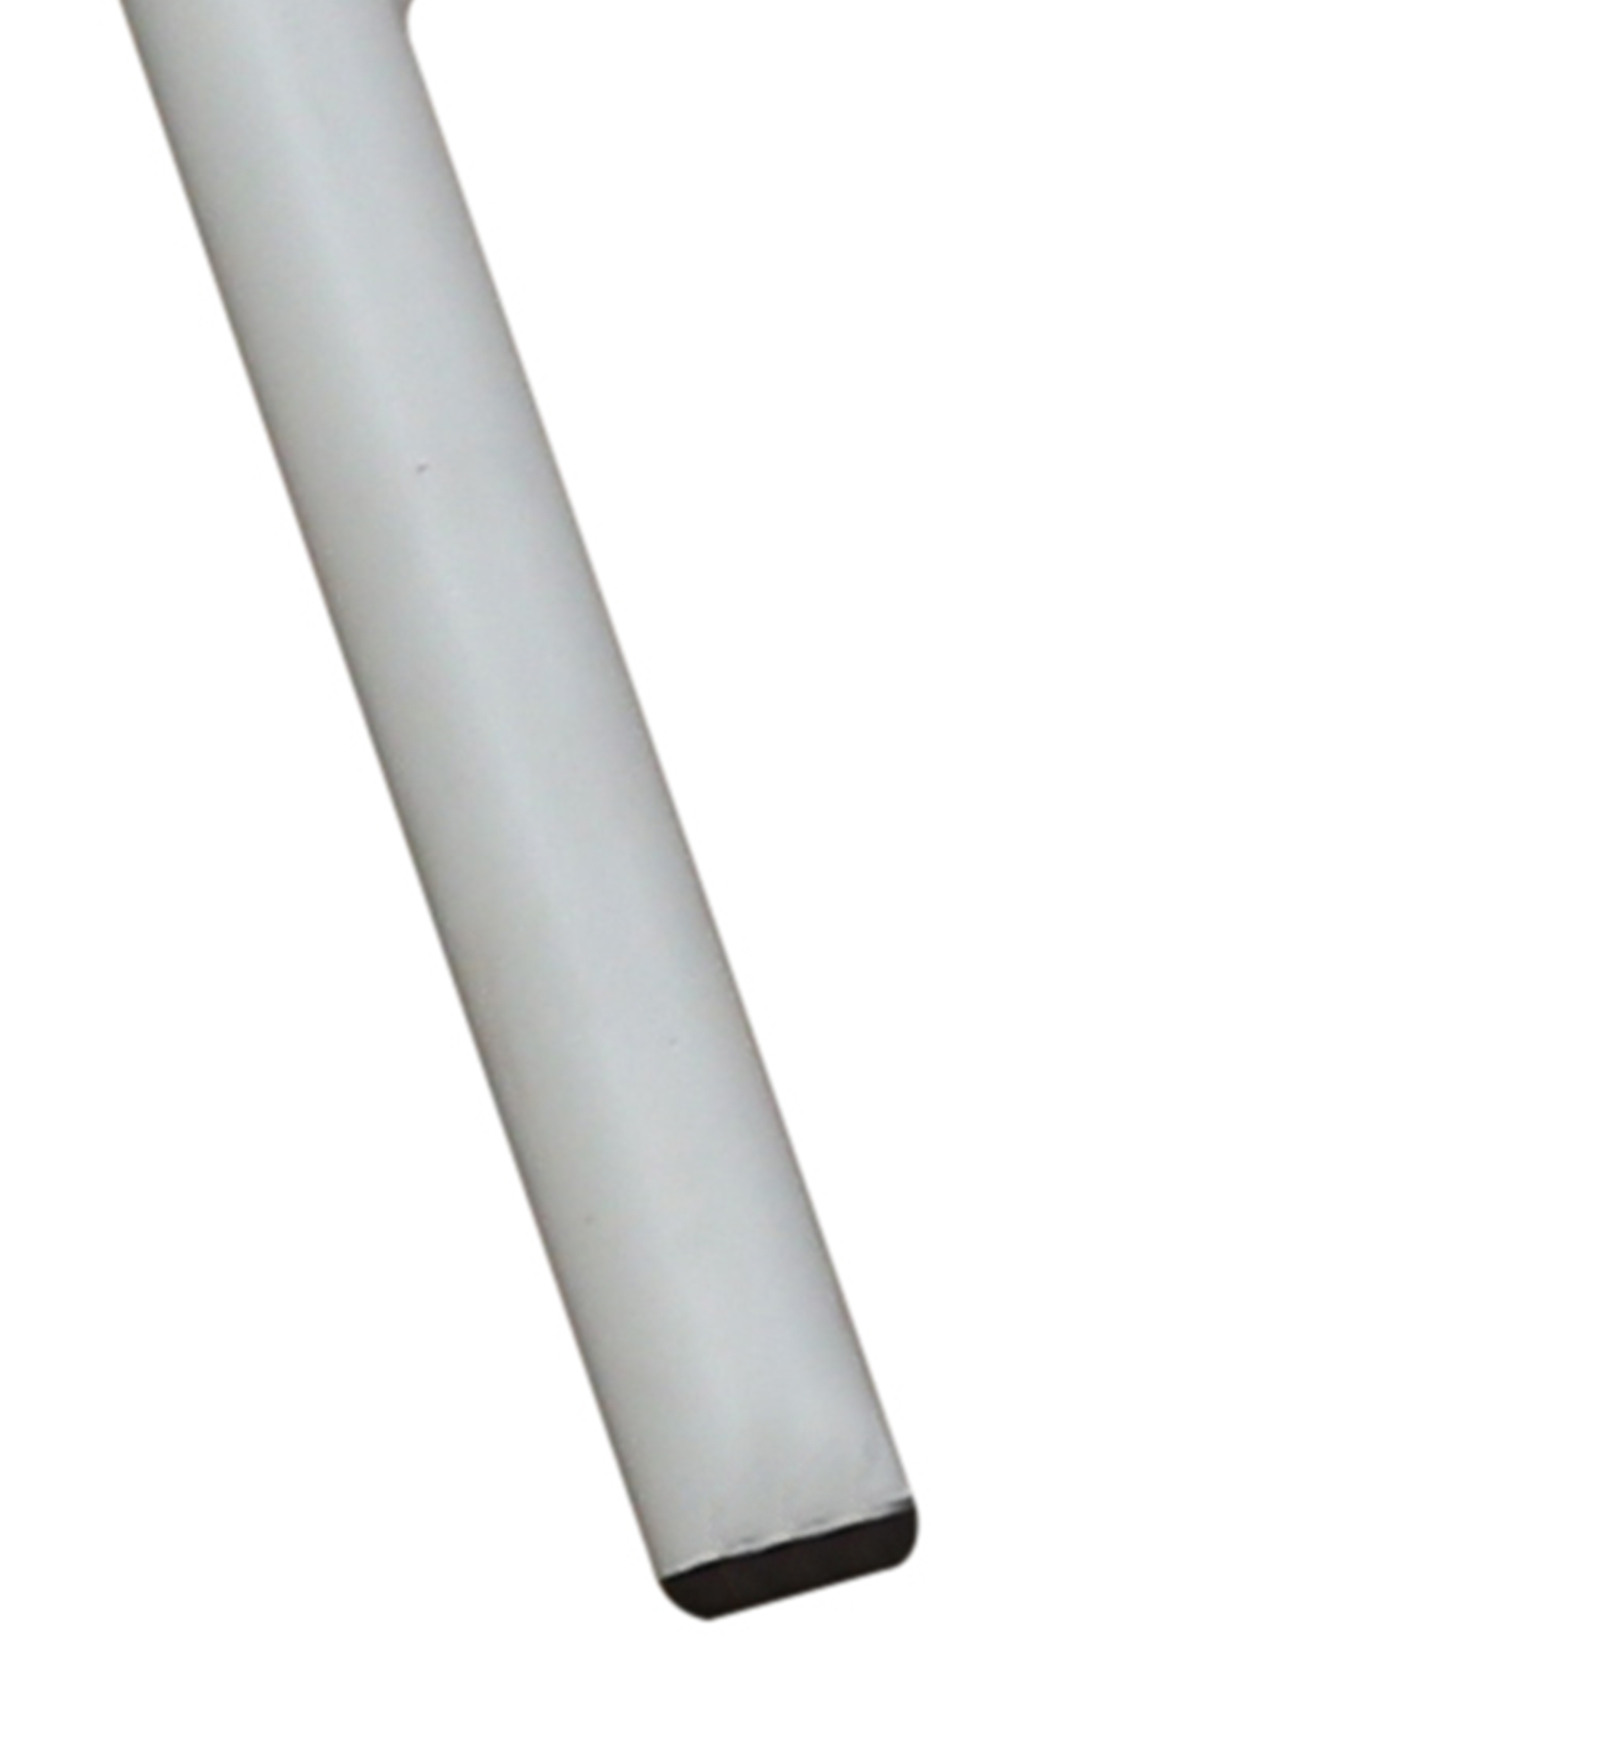Kell Folding Chair (Set of 2) in White Color by Bohemiana: (109, 2, 966, 1677)
